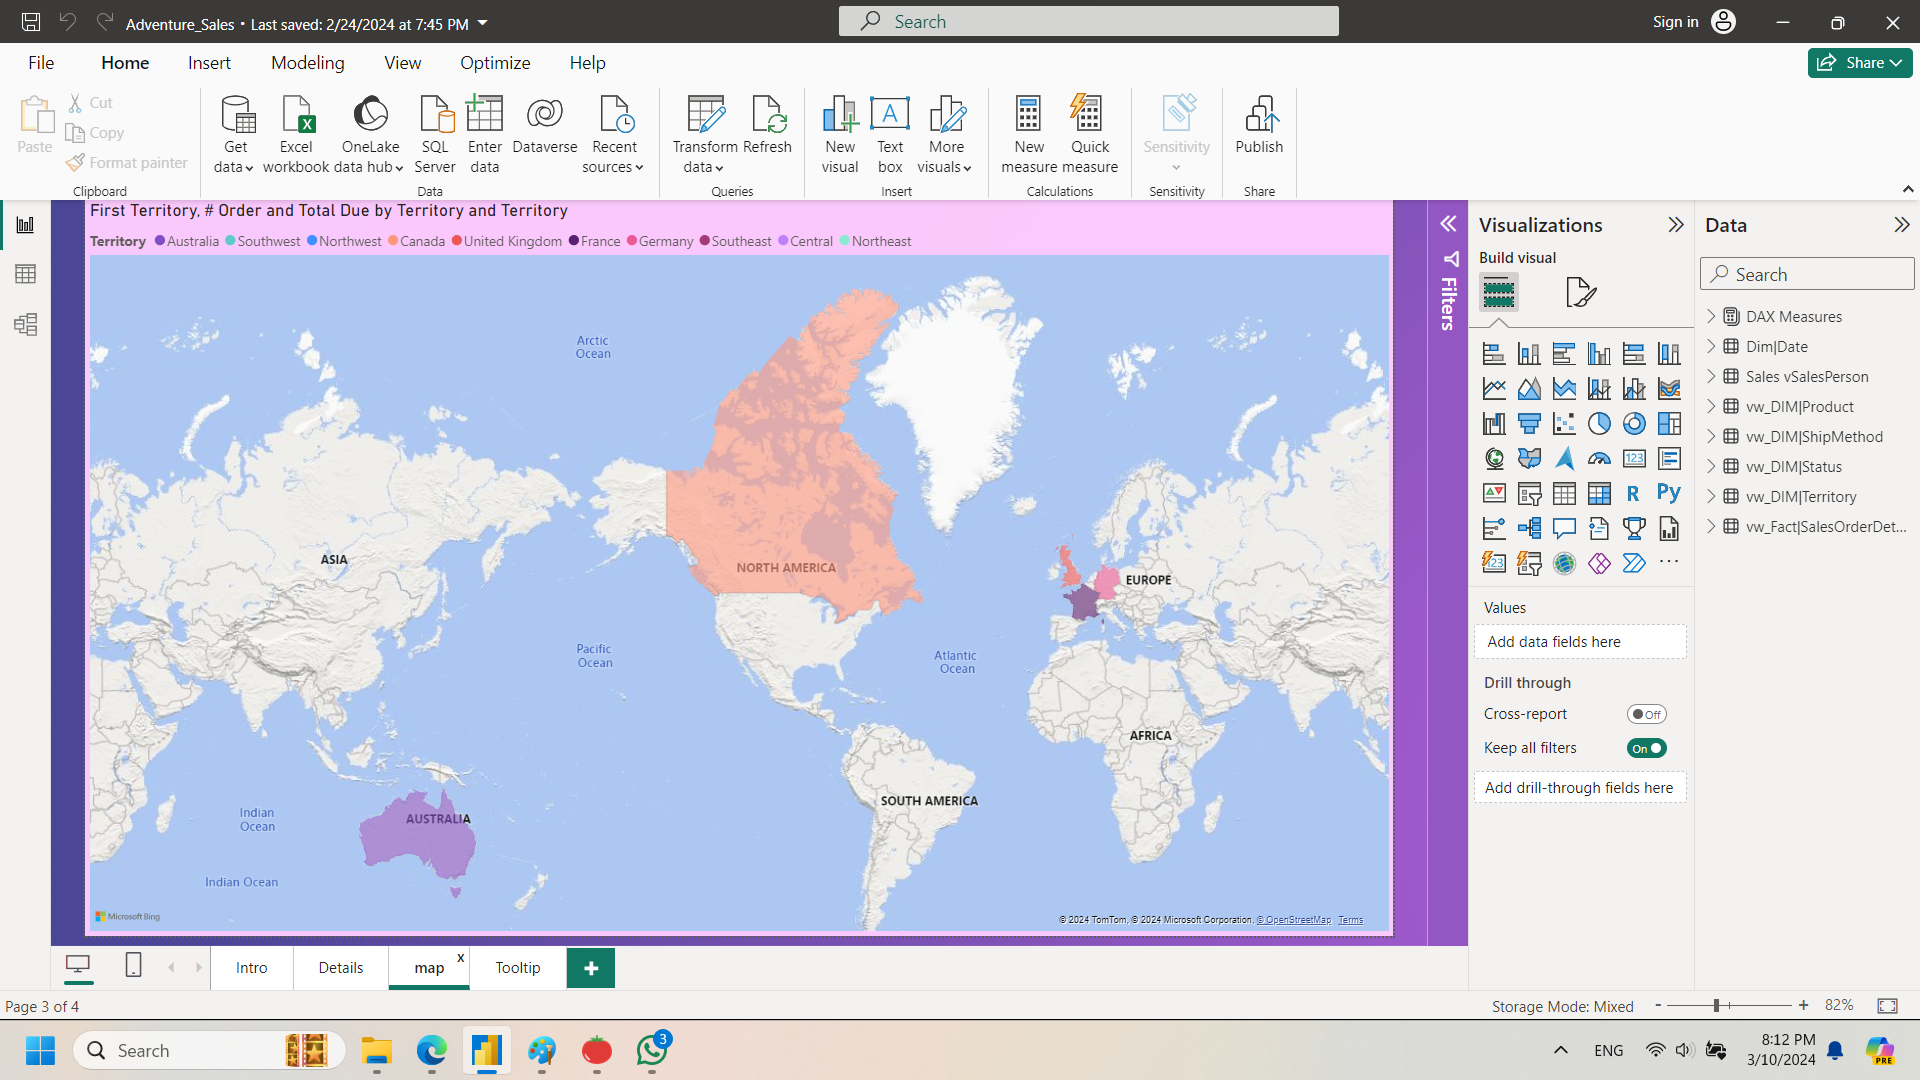

Layout of this report page (visuals, bound fields, positions):
{"tool":"powerbi","page":{"name":"map","canvas":[1280,720],"ordinal":2},"visuals":[{"type":"filledMap","fields":{"Category":["vw_DIM|Territory.Territory"],"Series":["vw_DIM|Territory.Territory"]},"box":[0,0,1280.3,720.5],"z":0}]}

Visuals, with their boxes on the page's 1280x720 design canvas (x1, y1, x2, y2). These are canvas units, not pixel positions in the 1920x1080 screenshot, which may show the page scaled, cropped or inside an application window:
filledMap - vw_DIM|Territory.Territory x vw_DIM|Territory.Territory: locate(0, 0, 1280, 720)
